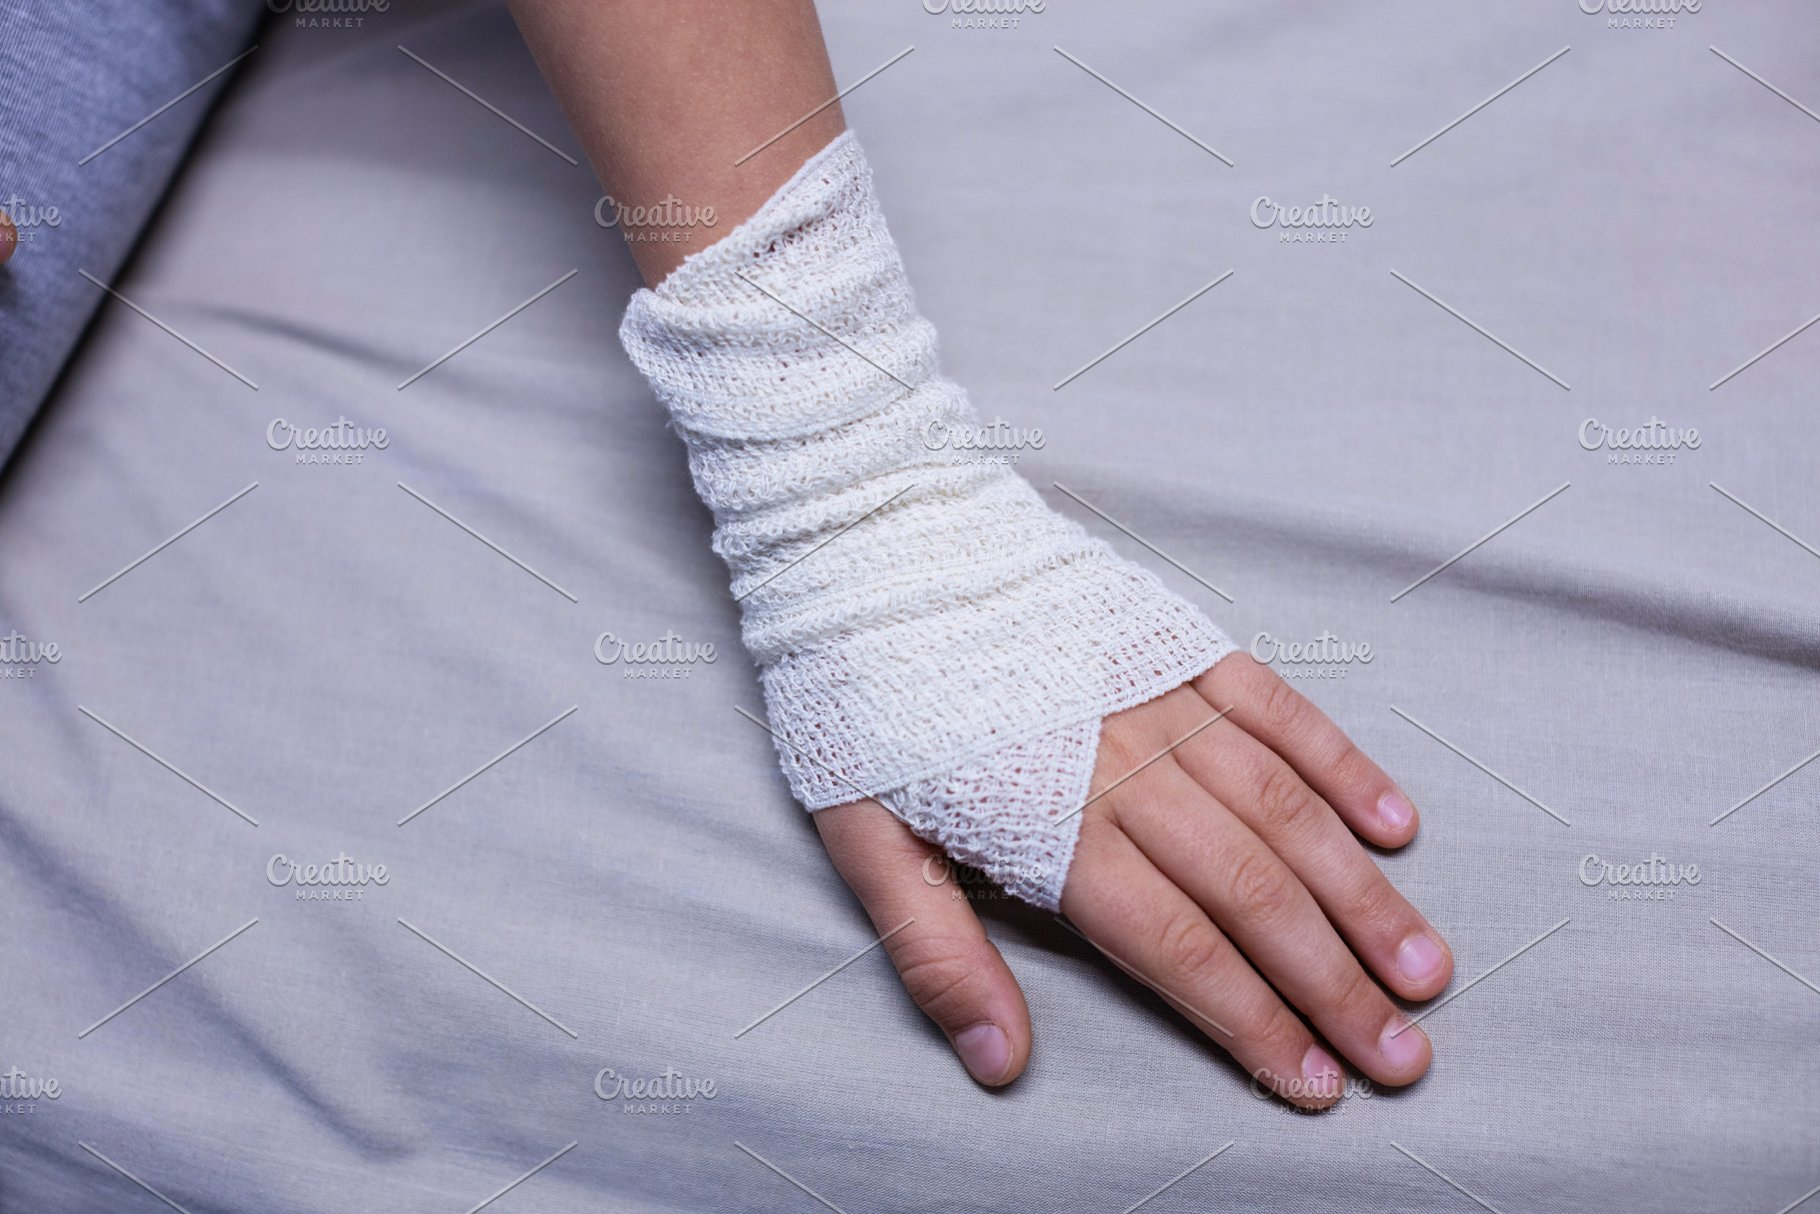injured: (489, 222, 1557, 1129)
